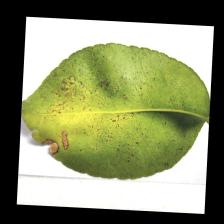canker: (23, 65, 98, 162)
